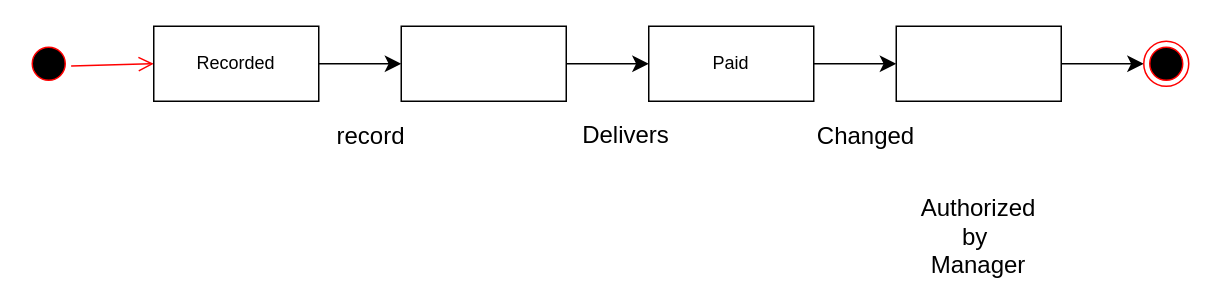
Some shapes in this 1215 by 306 pixel diagram are drawn without their labels. Each missing label, with the centre of its shape:
"Compensated" belongs at (x=978, y=63).
"Owed" belongs at (x=483, y=63).
